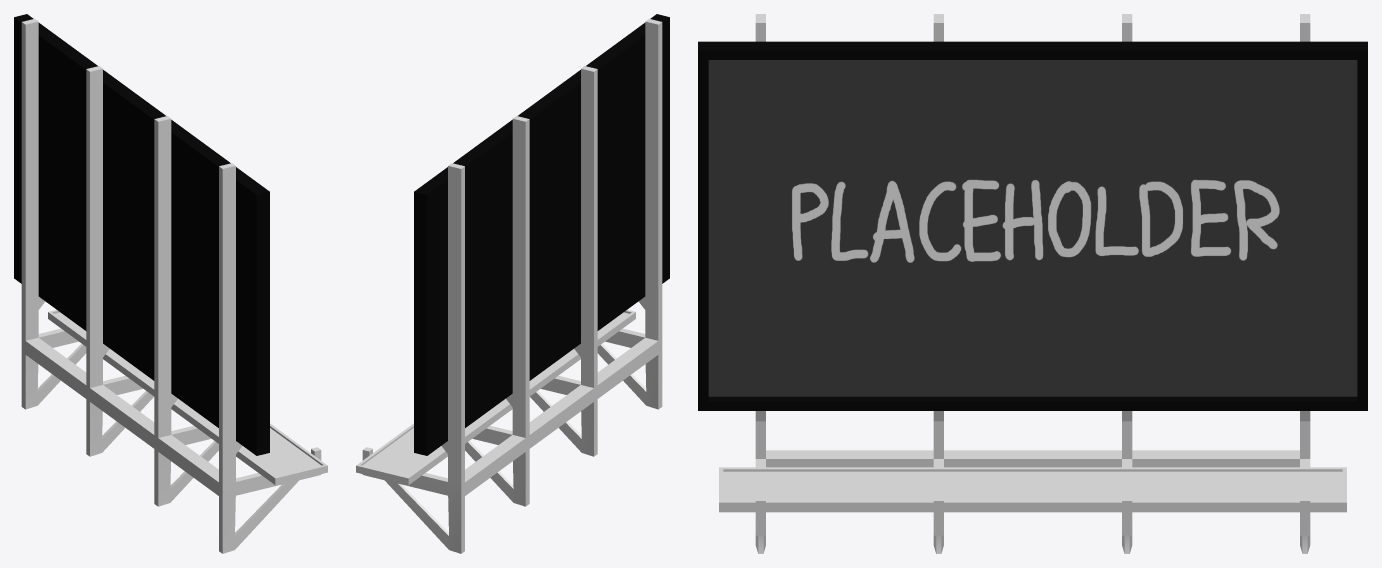
The model's file is billboard.glb.
3 views of the same model, side by side, from view 1: azimuth 30°, elevation 25°; view 2: azimuth 150°, elevation 25°; view 3: azimuth 270°, elevation 25° (orthographic). The views are drawn at different scales.
Visible parts, largest first — view 1: Cube.002, Cube; view 2: Cube.002, Cube; view 3: Cube.001, Cube, Cube.002.
Boxes of the visible parts, left/top/right/bottom form: Cube.002: left=14, top=14, right=269, bottom=455; Cube: left=21, top=18, right=327, bottom=553; Cube.002: left=414, top=14, right=669, bottom=455; Cube: left=356, top=18, right=662, bottom=553; Cube.001: left=708, top=60, right=1357, bottom=396; Cube: left=719, top=14, right=1346, bottom=553; Cube.002: left=698, top=41, right=1367, bottom=410.
Size of the model in its own units: 56.25 by 210 by 240.
Materials: 3 (1 with a texture image).
